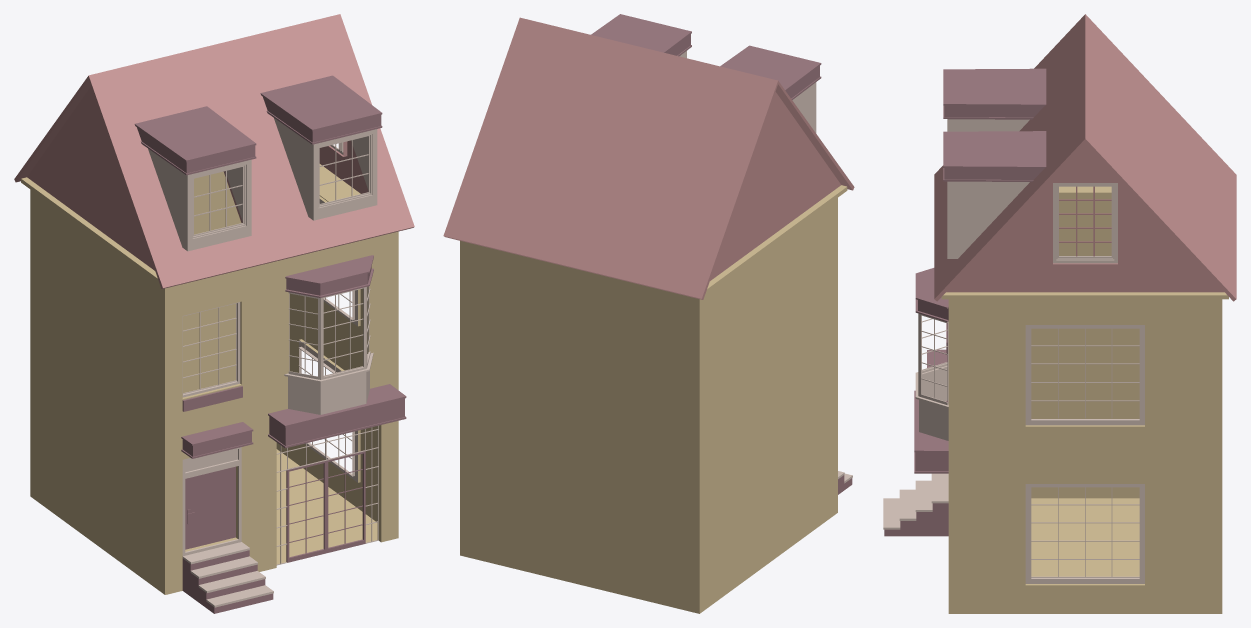
3 views of the same model, side by side, from view 1: azimuth 30°, elevation 25°; view 2: azimuth 150°, elevation 25°; view 3: azimuth 270°, elevation 25° (orthographic). The views are drawn at different scales.
Parts seen in each view (by area): view 1: house, ciling, gray part, white part, stairs, door 1, Cube.016, door frame, door 2, door 3; view 2: house, ciling; view 3: house, ciling, white part, Cube.016, stairs, gray part.
Boxes of the visible parts, box(x1,y1,x2,y2) form: house: box(21, 164, 398, 594); ciling: box(14, 14, 414, 288); gray part: box(181, 255, 406, 458); white part: box(182, 199, 373, 414); stairs: box(182, 542, 273, 613); door 1: box(185, 466, 235, 549); Cube.016: box(276, 340, 378, 565); door frame: box(182, 447, 241, 555); door 2: box(286, 460, 326, 562); door 3: box(326, 450, 365, 552); house: box(460, 185, 847, 613); ciling: box(443, 14, 854, 299); house: box(941, 186, 1228, 613); ciling: box(934, 14, 1236, 301); white part: box(915, 313, 1144, 440); Cube.016: box(1025, 484, 1144, 583); stairs: box(883, 473, 948, 536); gray part: box(914, 268, 948, 473).
Bounding box in the file's own units: 539 × 967 × 645.
